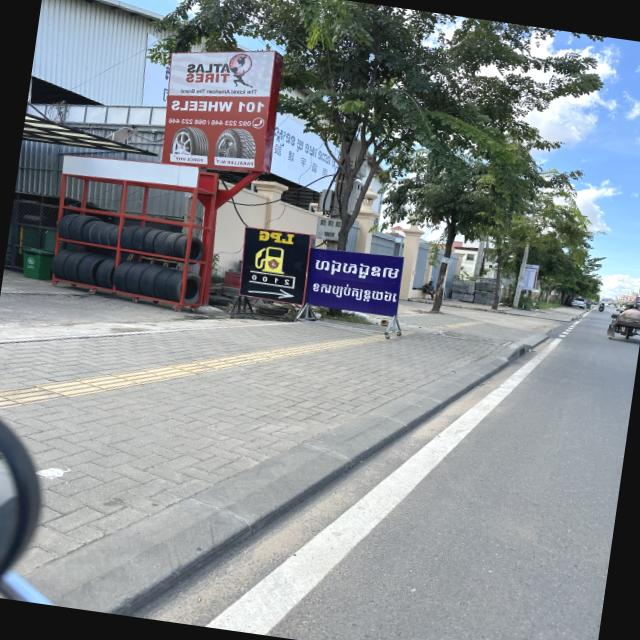Yolov11_80vkh: (312, 254, 407, 286), (308, 276, 406, 307)
